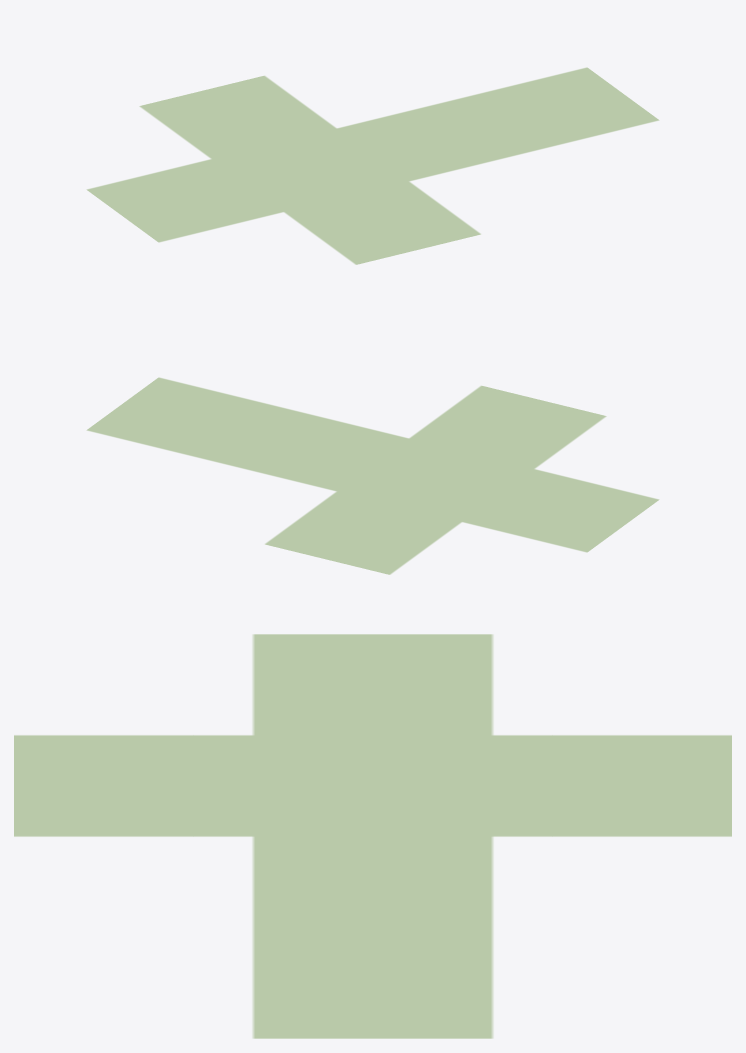
File: diorama.glb
3 views of the same model, one above another, from view 1: azimuth 30°, elevation 25°; view 2: azimuth 150°, elevation 25°; view 3: azimuth 270°, elevation 25° (orthographic). The views are drawn at different scales.
Visible parts, largest first — view 1: ground; view 2: ground; view 3: ground.
Part boxes in pixels (x1,y1,x2,y2): ground: (86,67,659,264); ground: (86,377,659,574); ground: (14,634,731,1038).
Size of the model in its own units: 8 by 0 by 6.
1 material, 1 textured.
